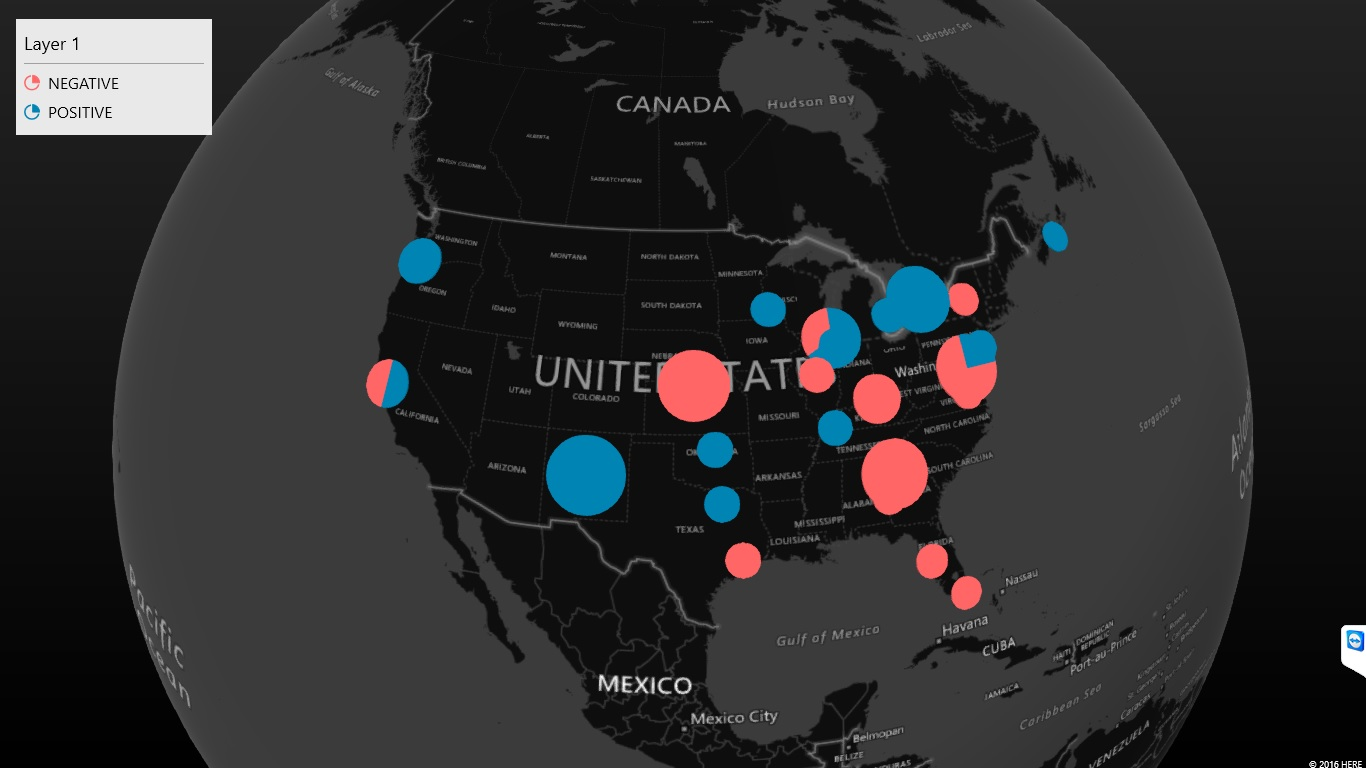

Layout of this report page (visuals, bound fields, positions):
{"tool":"tableau","page":{"name":"Dashboard 1","canvas":[1000,800],"ordinal":0},"visuals":[{"type":"worksheet","title":"Sheet 1","mark":"Circle","box":[0,0,683,400]},{"type":"worksheet","title":"Sheet 2","mark":"Pie","box":[683,0,317,400]},{"type":"worksheet","title":"Sheet 3","mark":"Automatic","box":[0,400,518,400]},{"type":"worksheet","title":"Sheet 4","mark":"Automatic","rows":["fullname","merchant_category_code"],"cols":["total"],"box":[518,400,482,400]}]}

Visuals, with their boxes on the page's 1000x800 design canvas (x1, y1, x2, y2). These are canvas units, not pixel positions in the 1366x768 screenshot, which may show the page scaled, cropped or inside an application window:
"Sheet 1" worksheet (Circle marks): <region>0, 0, 683, 400</region>
"Sheet 2" worksheet (Pie marks): <region>683, 0, 1000, 400</region>
"Sheet 3" worksheet: <region>0, 400, 518, 800</region>
"Sheet 4" worksheet: <region>518, 400, 1000, 800</region>
